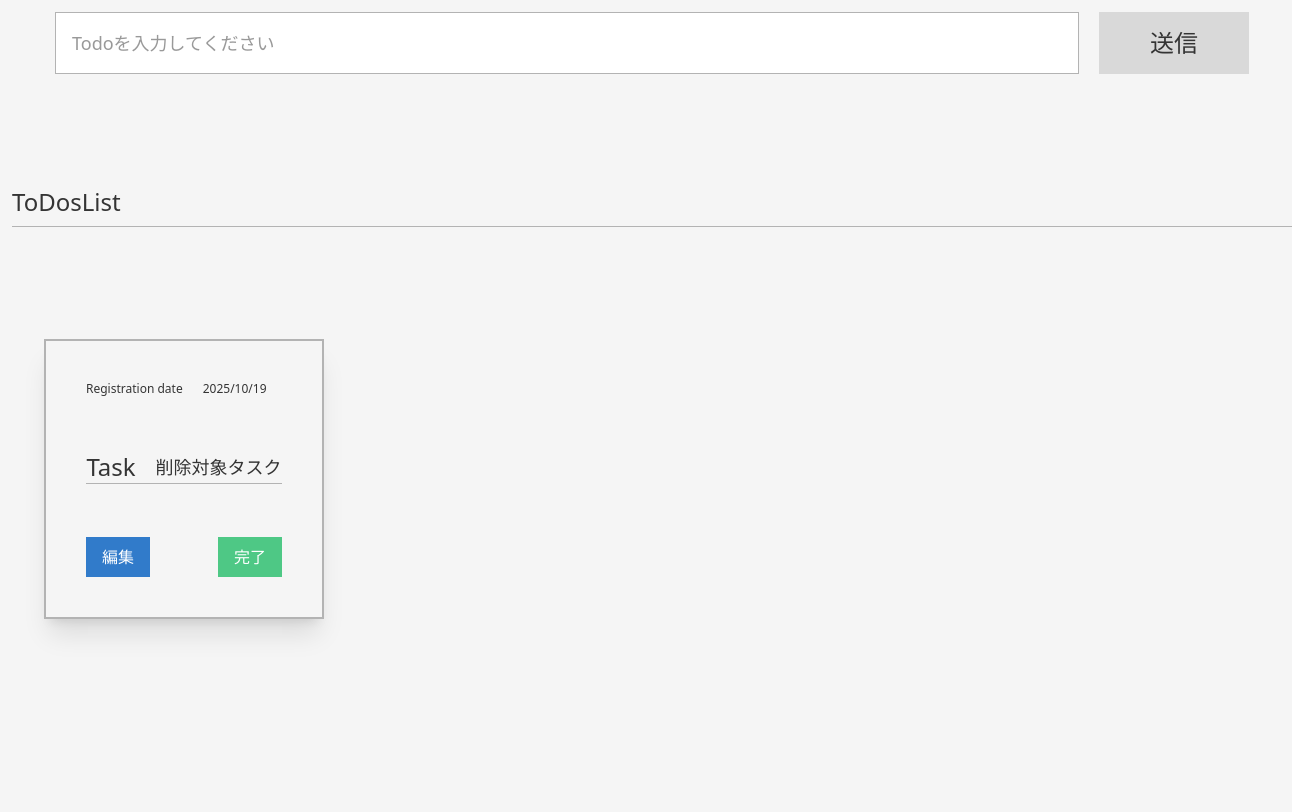
it: 非同期関数の動作確認 › delete: タスクが削除されるか
Click the button "完了" at [250, 557], box left=218, top=537, right=282, bottom=577
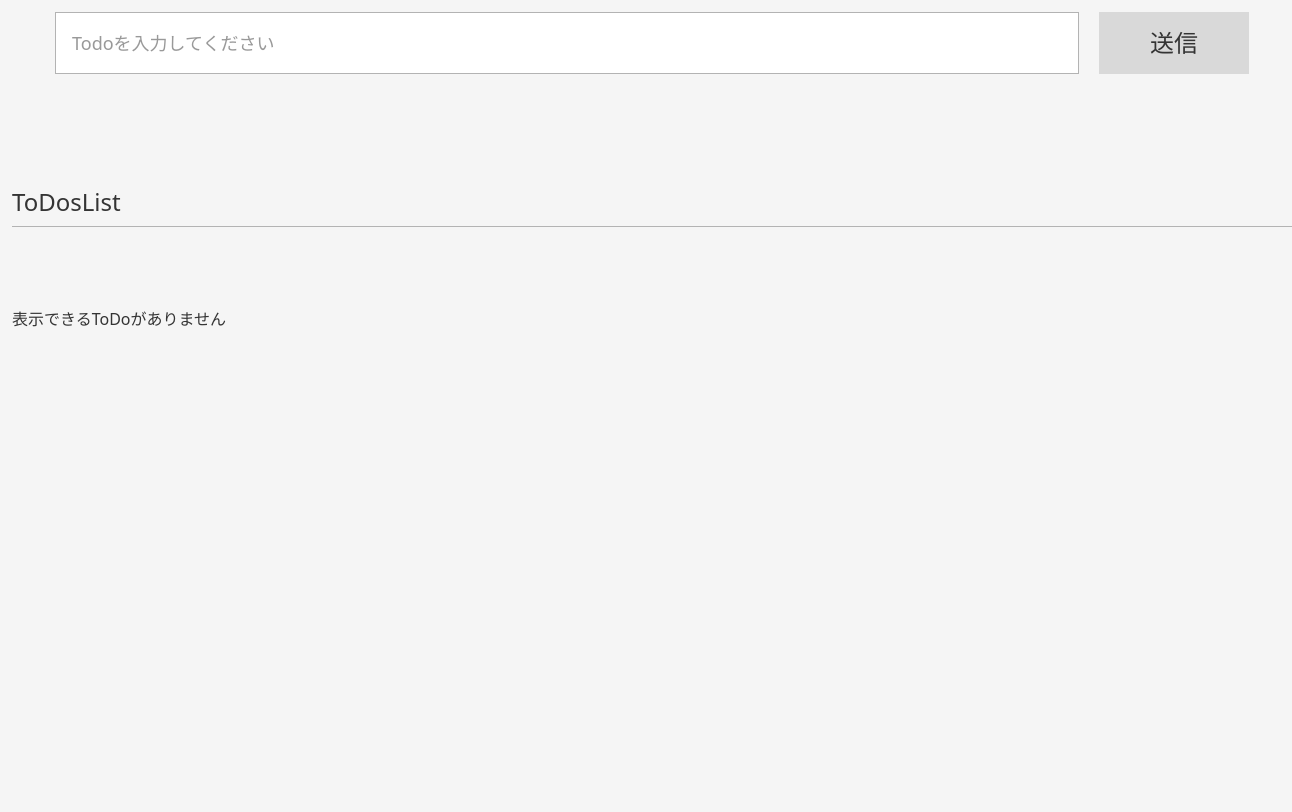
Check: the text "削除対象タスク" is gone
